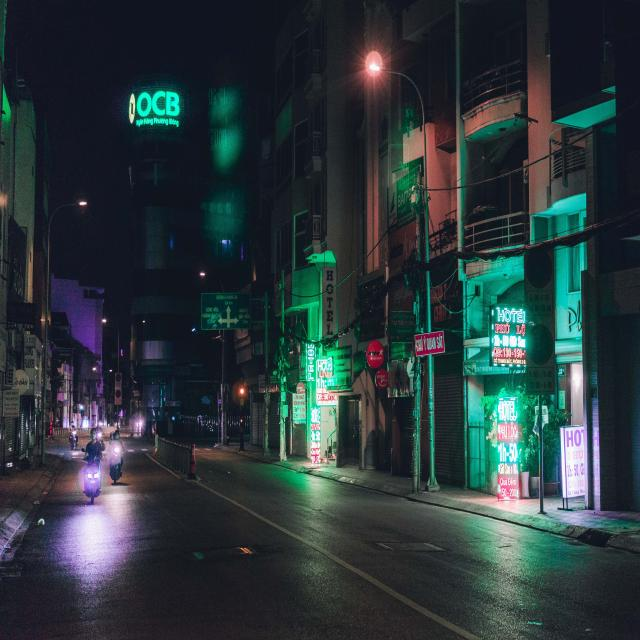Street Light: (369, 61, 440, 493), (42, 199, 88, 466), (200, 272, 228, 446), (102, 318, 120, 430)
